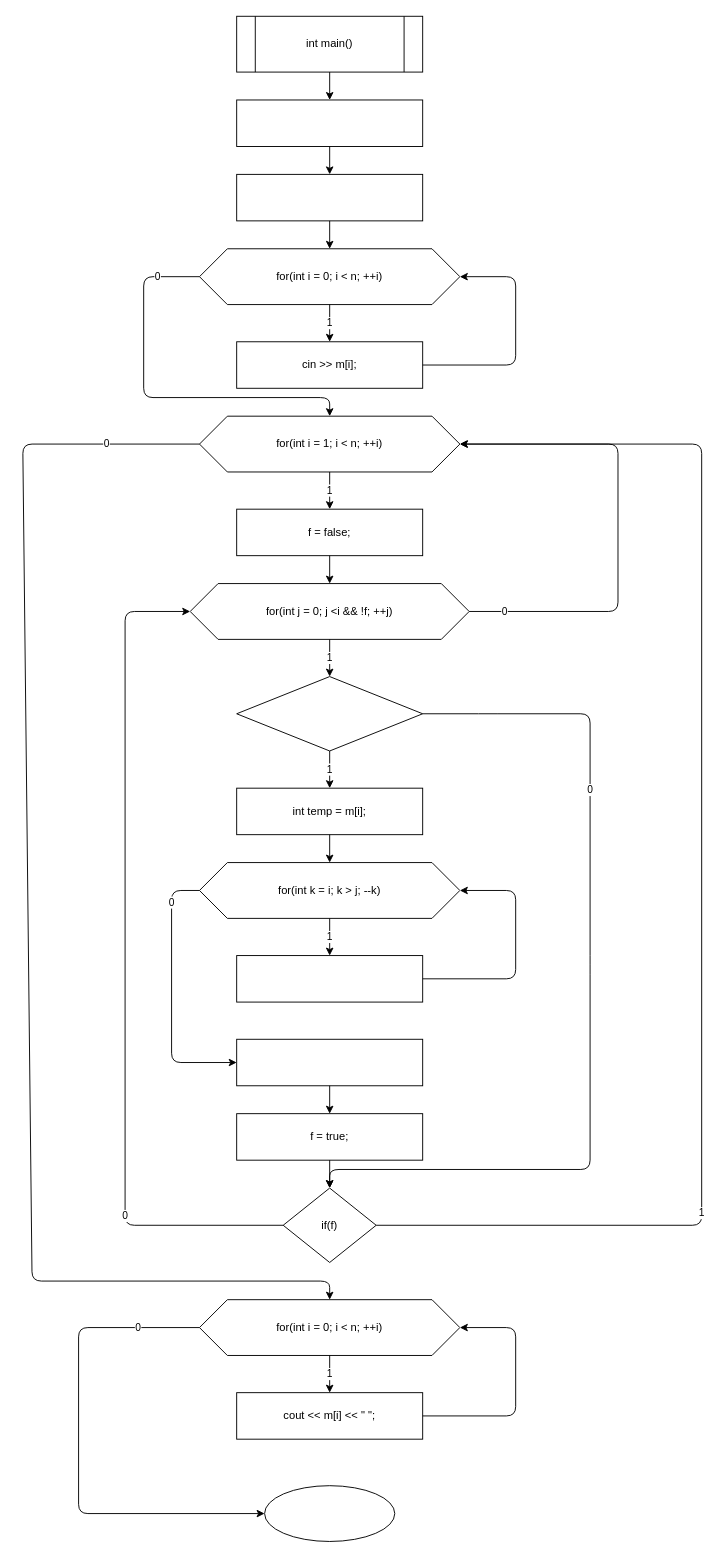
Image size: 725x1558. Some labels were removed from this diagram. Each missing label, with the centre of its shape:
int n; cin >> n; bool f;: (329,122)
int* m = new int[n]();: (329,197)
m[j] = temp;: (329,1062)
m[j] > m[i]: (329,713)
m[k] = m[k-1];: (329,978)
return 0;: (329,1513)
